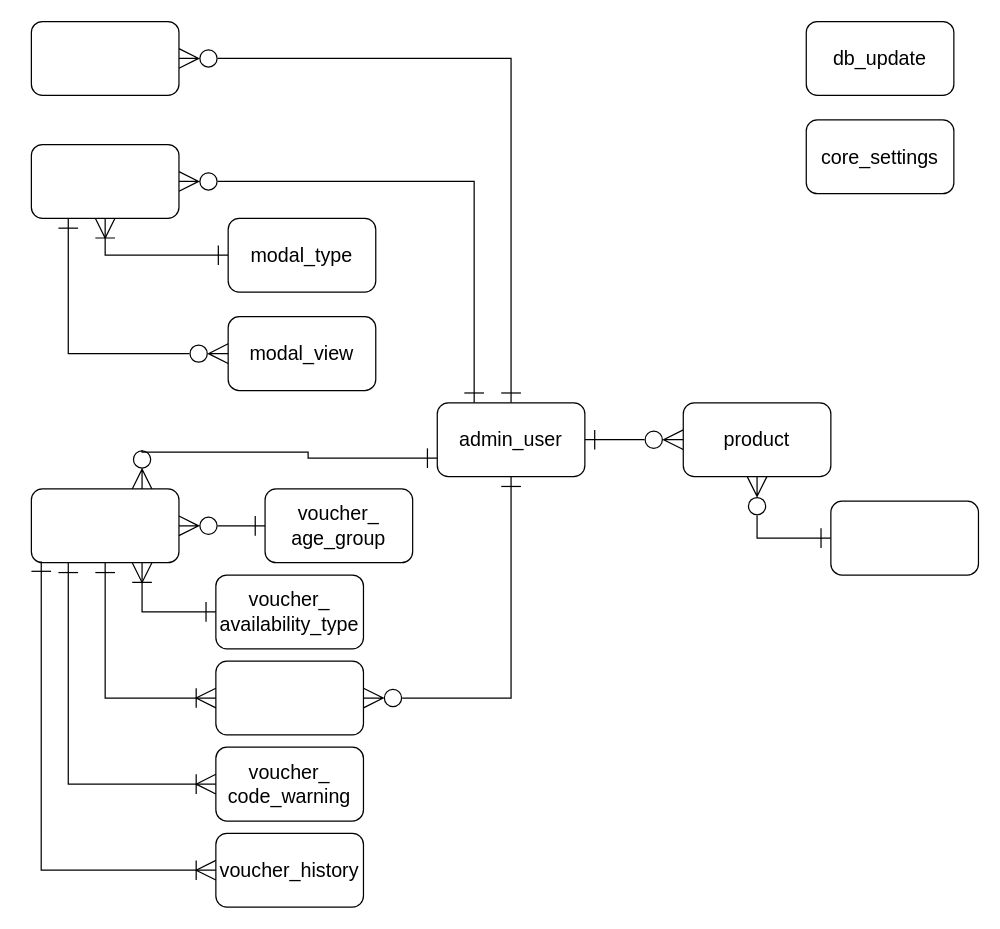
This 1000x929 diagram has some shape labels left out. The shapes that lost their labels are listed below. From the top down, each one's box as (x1, y1, x2, y2) in pixels, then its label:
(30, 20, 179, 95): banner
(30, 143, 179, 218): modal
(30, 488, 179, 563): voucher
(830, 500, 978, 575): product_level
(215, 660, 363, 735): voucher_code
